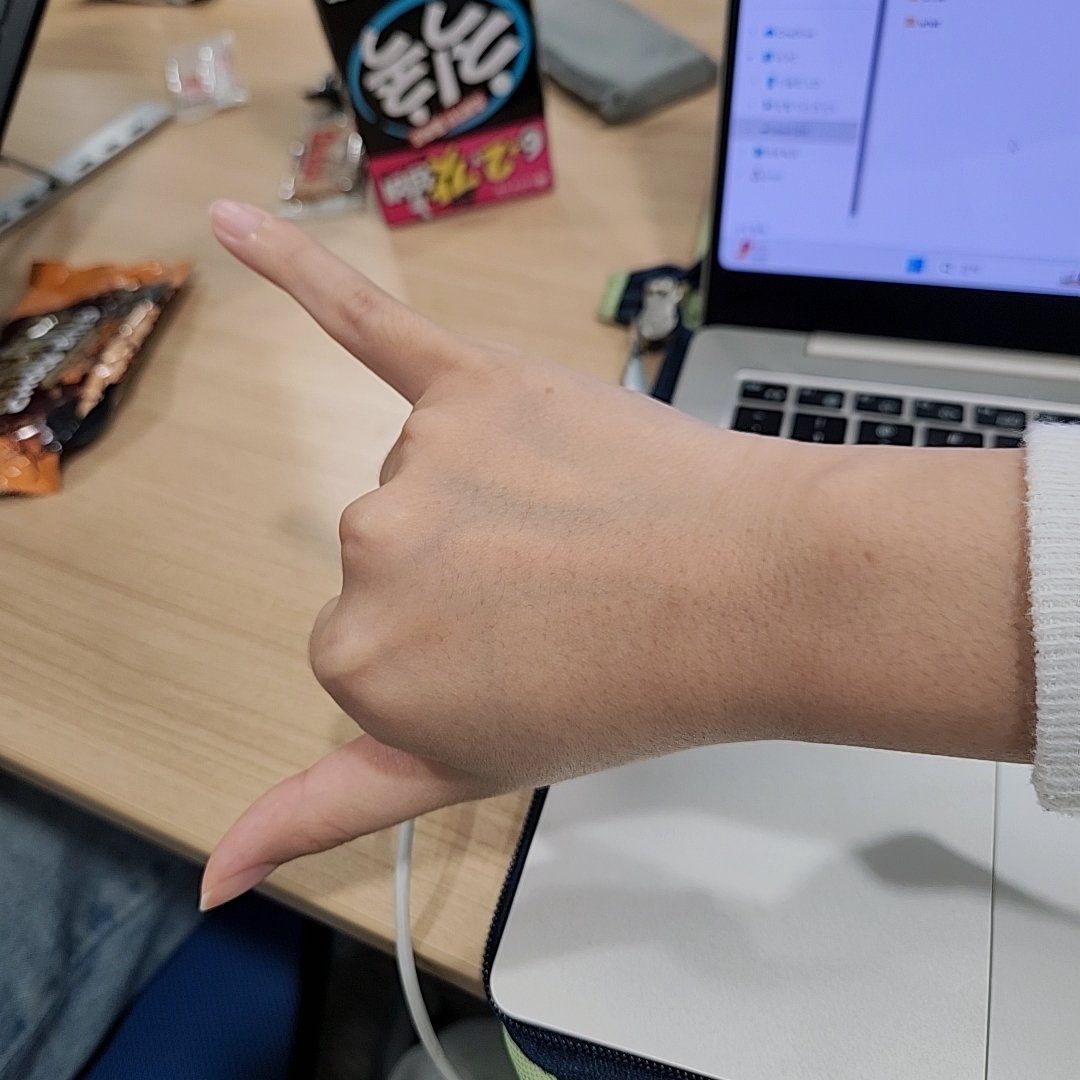call: (199, 197, 720, 913)
